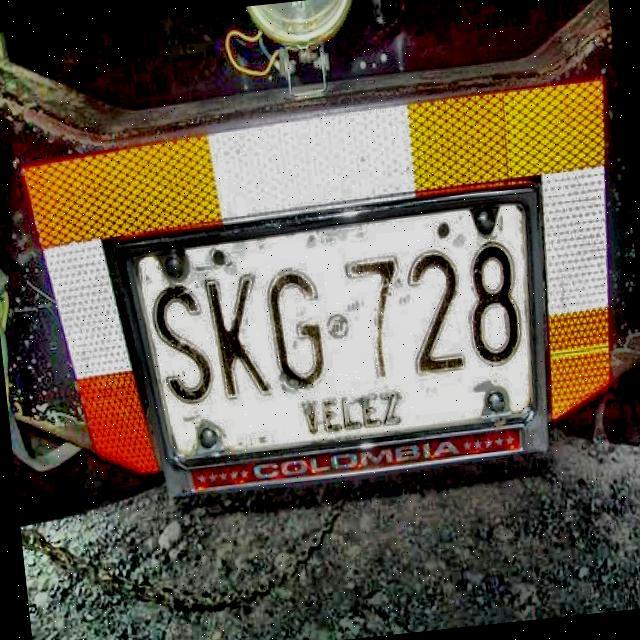2: (406, 244, 472, 381)
7: (340, 251, 404, 381)
8: (460, 234, 525, 374)
G: (262, 265, 333, 397)
K: (201, 268, 278, 404)
S: (145, 280, 217, 412)
